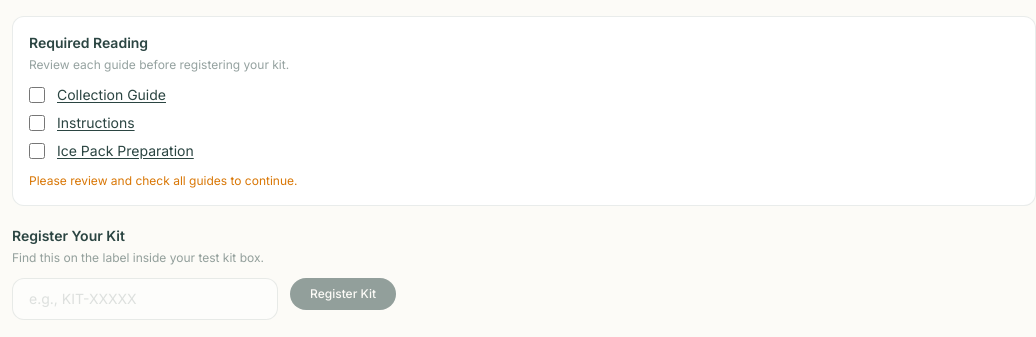
KitRegistrationForm › shows "expired" error for expired kit
Click the checkbox labelled "Collection Guide" at (37, 95), box [29,87,45,103]
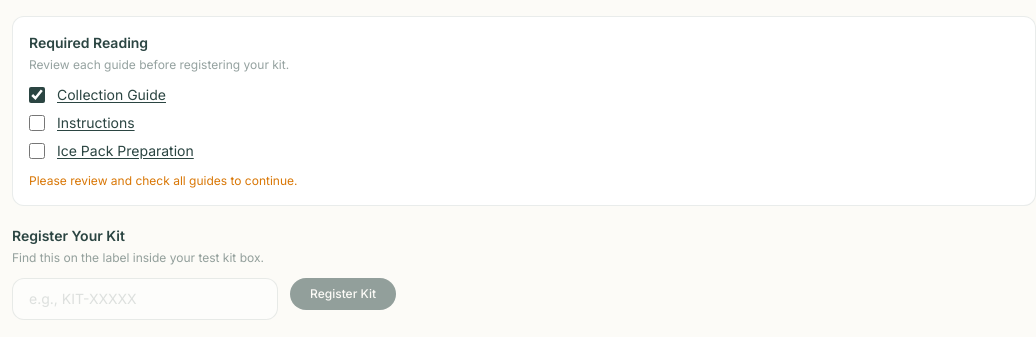
Click the checkbox labelled "Instructions" at (37, 123), box [29,115,45,131]
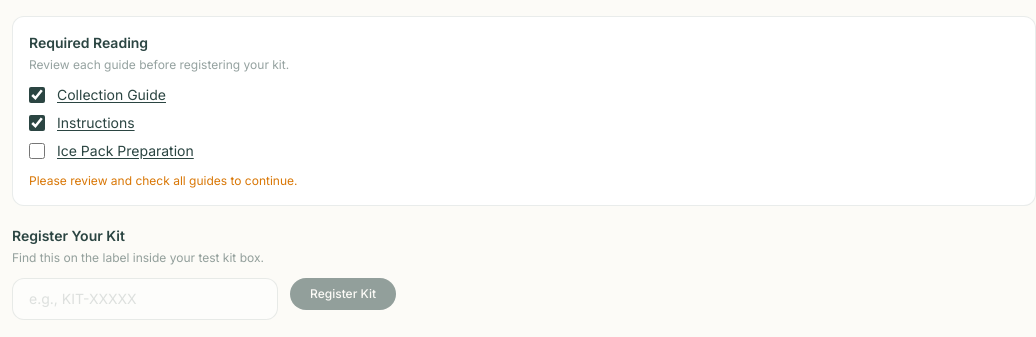
Click the checkbox labelled "Ice Pack Preparation" at (37, 151), box [29,143,45,159]
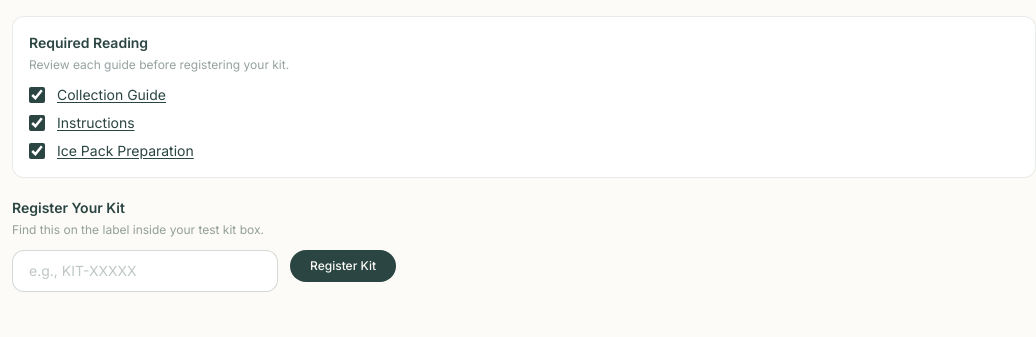
Type "KIT-EXP" into the field with placeholder "e.g., KIT-XXXXX" at (145, 271), box [12,250,278,292]
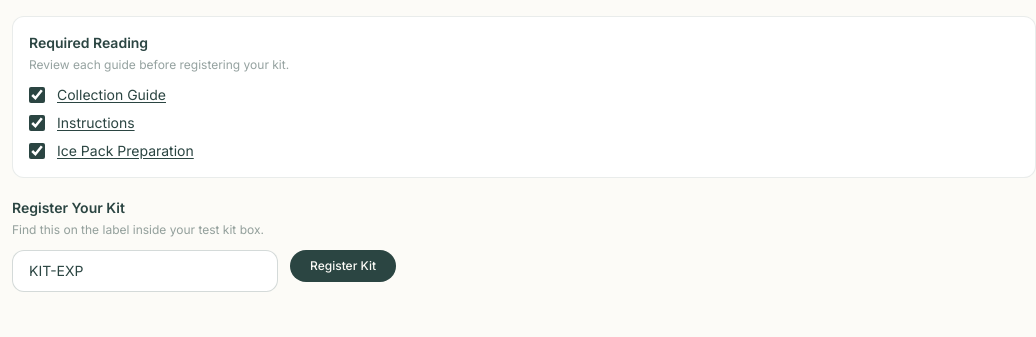
Click the button "Register Kit" at (343, 266), box [290,250,396,282]
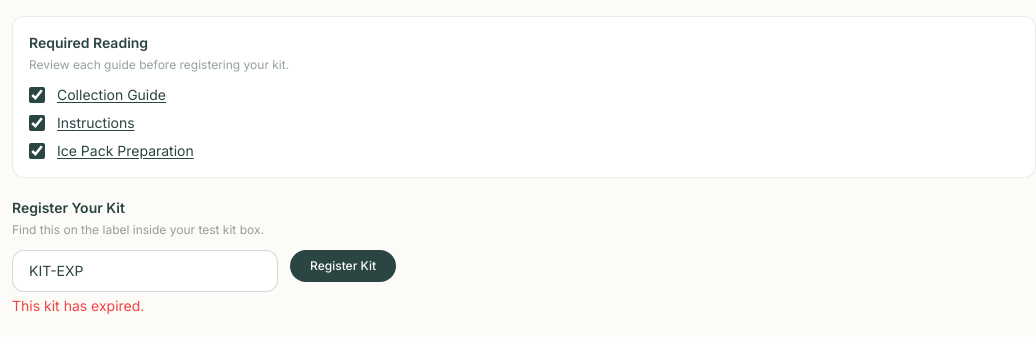
Now the text "This kit has expired." is shown, box [12,297,144,314]
